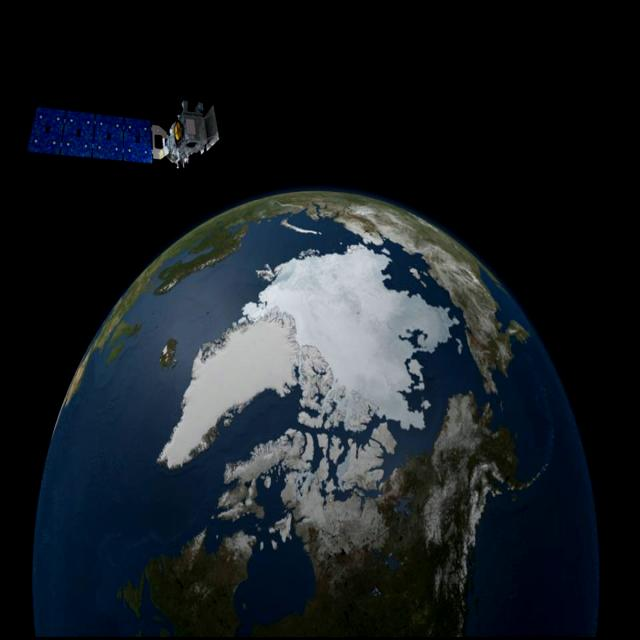medium_debris: (0, 73, 233, 206)
